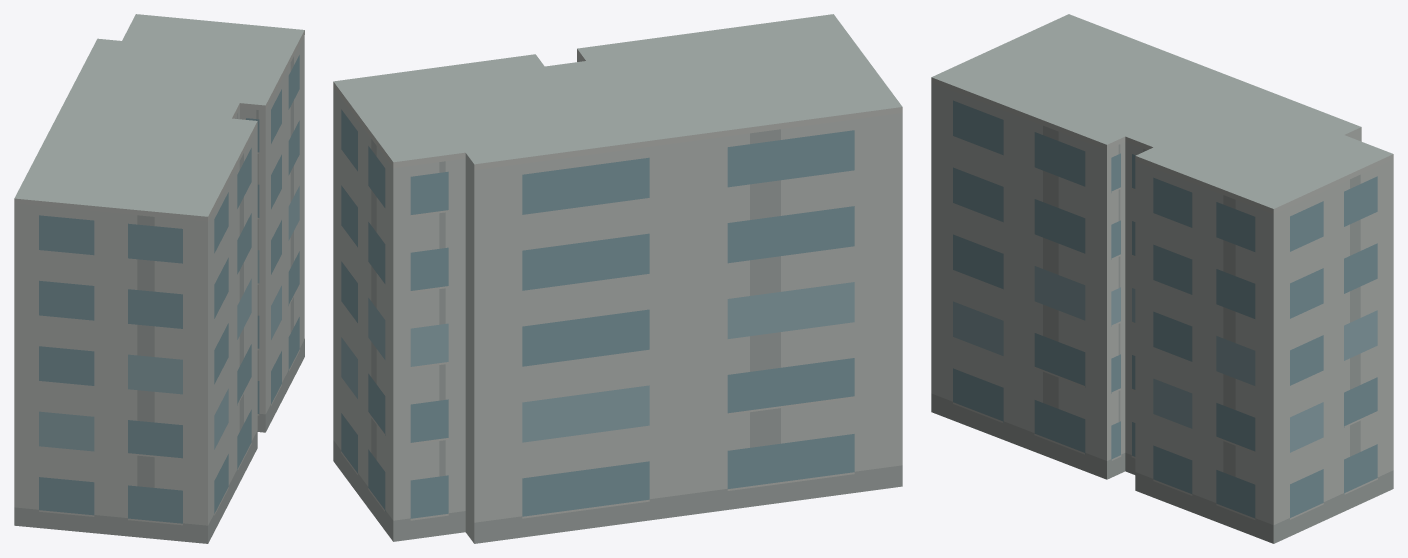
The model's file is survey-upis-32788285.glb.
3 views of the same model, side by side, from view 1: azimuth 30°, elevation 25°; view 2: azimuth 150°, elevation 25°; view 3: azimuth 270°, elevation 25° (orthographic). The views are drawn at different scales.
Visible parts, largest first — view 1: survey-upis-32788285.tmp; view 2: survey-upis-32788285.tmp; view 3: survey-upis-32788285.tmp.
Part boxes in pixels (x1,y1,x2,y2): survey-upis-32788285.tmp: (14, 14, 304, 543); survey-upis-32788285.tmp: (333, 14, 902, 543); survey-upis-32788285.tmp: (931, 14, 1393, 543).
Bounding box in the file's own units: 19.25 × 15.4 × 19.27.
